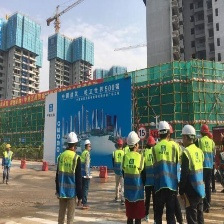helmet: (181, 124, 197, 137), (126, 131, 140, 145), (157, 120, 170, 132), (66, 131, 78, 144), (200, 124, 211, 134), (85, 140, 92, 147)
person: (179, 122, 206, 224), (155, 115, 178, 224), (57, 130, 80, 223), (122, 132, 144, 224), (198, 122, 215, 224), (144, 136, 158, 222), (80, 139, 94, 214), (113, 137, 125, 205), (4, 143, 13, 183)
vest: (183, 146, 207, 199), (154, 141, 177, 191), (125, 152, 143, 203), (58, 151, 76, 198), (201, 138, 212, 169), (4, 152, 11, 170)
